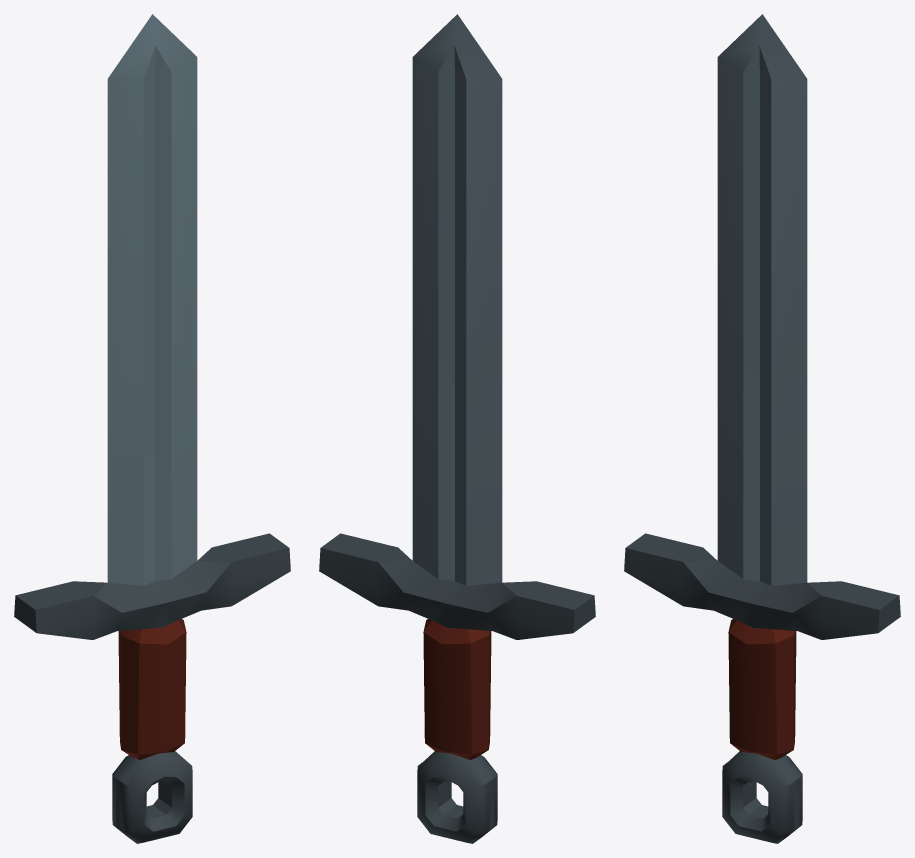
Rendered from mercenary_sword.obj.
3 renders of one model, left to right at view 1: azimuth 30°, elevation 25°; view 2: azimuth 150°, elevation 25°; view 3: azimuth 330°, elevation 25°, orthographic.
Visible parts, largest first — view 1: mercenary_sword_Cube.189; view 2: mercenary_sword_Cube.189; view 3: mercenary_sword_Cube.189.
Part boxes in pixels (bbox=[...]): mercenary_sword_Cube.189: bbox=[14, 14, 290, 843]; mercenary_sword_Cube.189: bbox=[319, 14, 595, 843]; mercenary_sword_Cube.189: bbox=[624, 14, 900, 843].
Size of the model in its own units: 0.3723 by 1.15 by 0.0798.
